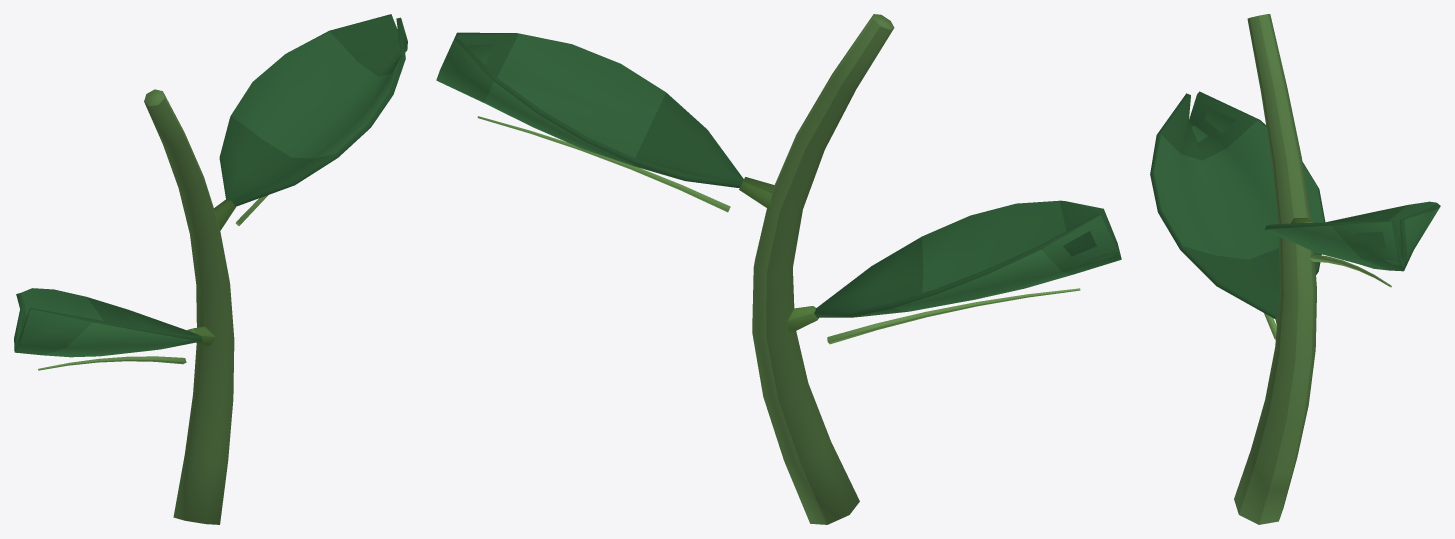
File: garden-orchid-sprout-stem-3.glb
The picture shows the model from 3 angles, left to right: view 1: azimuth 30°, elevation 25°; view 2: azimuth 150°, elevation 25°; view 3: azimuth 270°, elevation 25°; orthographic projection. The views are drawn at different scales.
Visible parts, largest first — view 1: orchid-sprout-stem-3; view 2: orchid-sprout-stem-3; view 3: orchid-sprout-stem-3.
Part boxes in pixels (x1=…): orchid-sprout-stem-3: x1=14, y1=14, x2=407, y2=524; orchid-sprout-stem-3: x1=436, y1=14, x2=1121, y2=524; orchid-sprout-stem-3: x1=1150, y1=14, x2=1440, y2=524.
Size of the model in its own units: 0.1644 by 0.142 by 0.0777.
